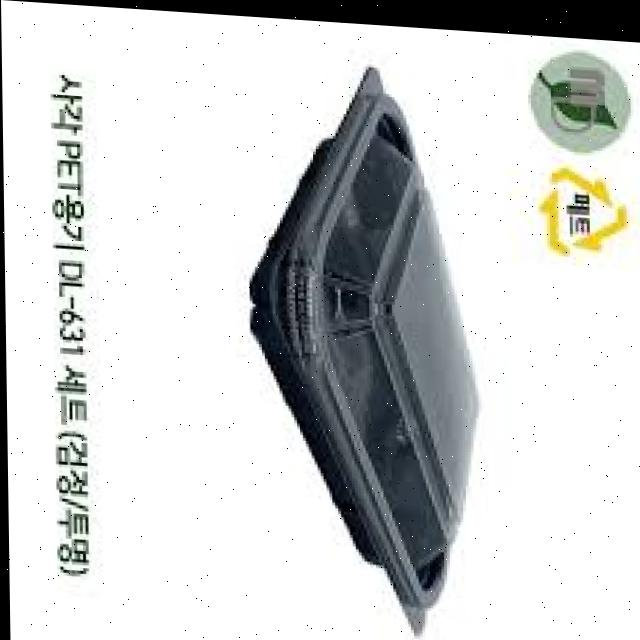disposable: (233, 70, 505, 640)
